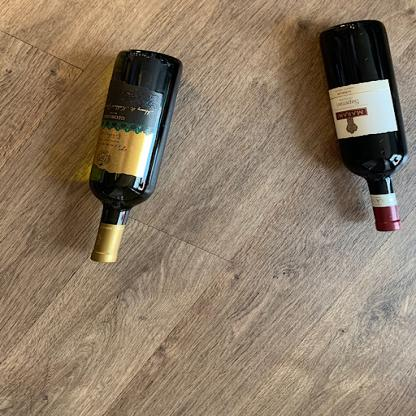trash: (82, 49, 185, 267), (314, 17, 410, 232)
